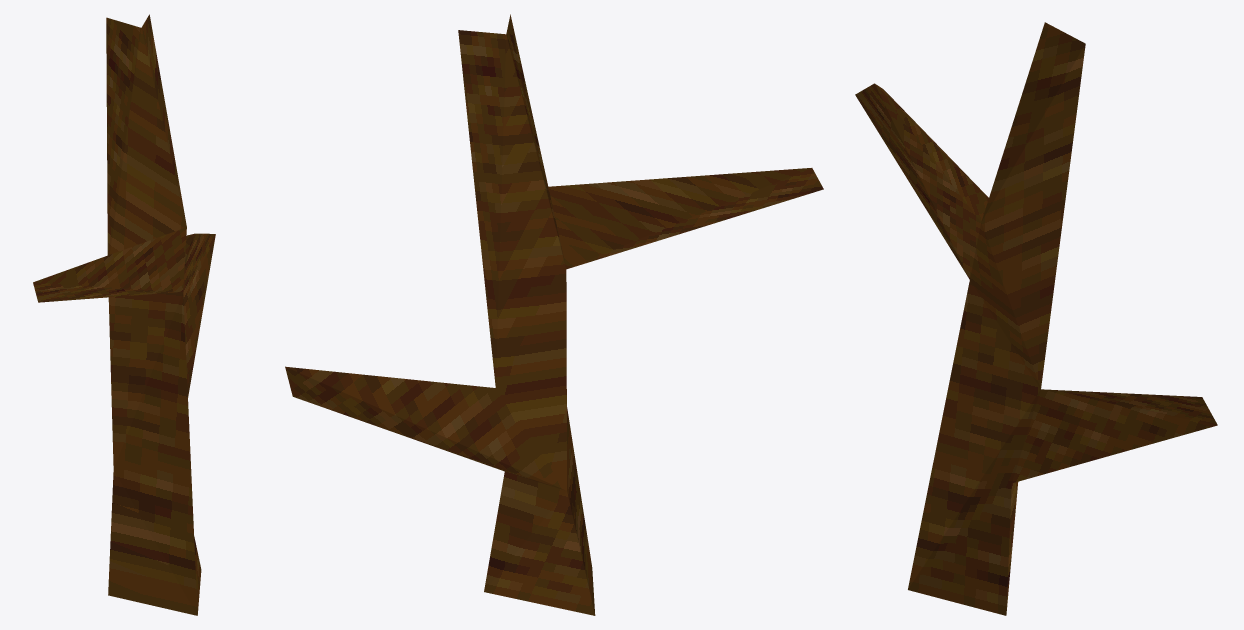
The model's file is treebranch04.glb.
3 renders of one model, left to right at view 1: azimuth 30°, elevation 25°; view 2: azimuth 150°, elevation 25°; view 3: azimuth 270°, elevation 25°, orthographic. The views are drawn at different scales.
Parts seen in each view (by area): view 1: treebranch04; view 2: treebranch04; view 3: treebranch04.
Boxes of the visible parts, x1,y1,x2,y2 form: treebranch04: (33, 14, 215, 615); treebranch04: (285, 14, 823, 615); treebranch04: (855, 22, 1217, 615).
Size of the model in its own units: 455 by 652 by 387.
Materials: 1 (1 with a texture image).
